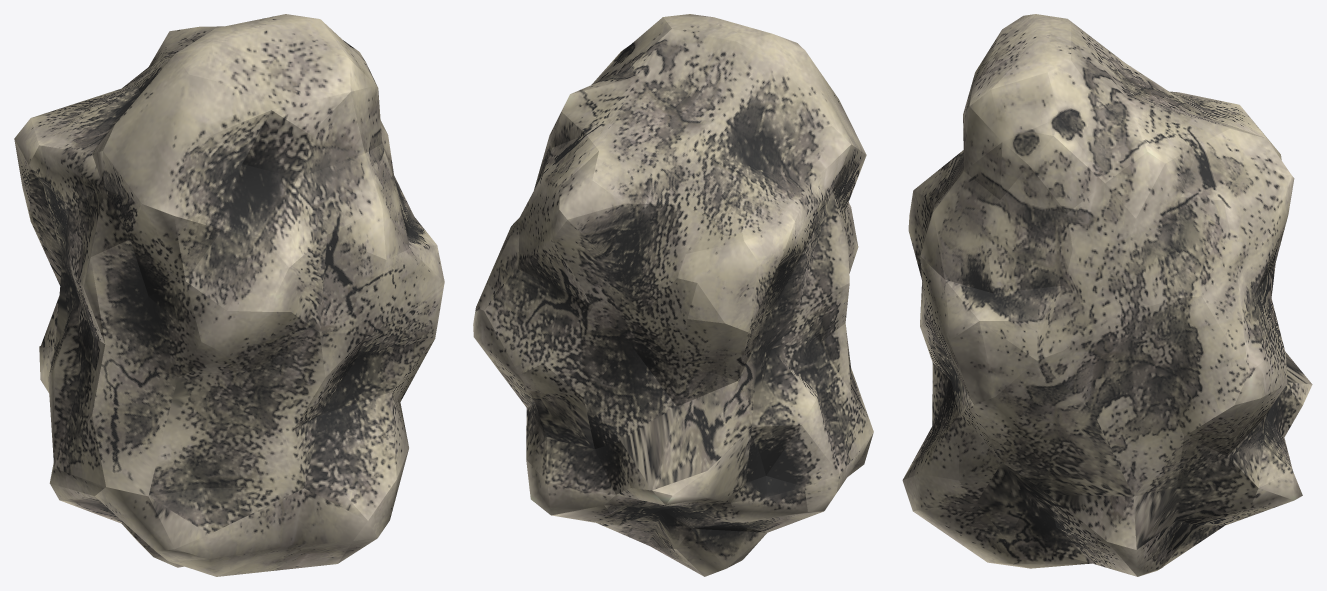
Rendered from rock6_LOD2.fbx.
3 views of the same model, side by side, from view 1: azimuth 30°, elevation 25°; view 2: azimuth 150°, elevation 25°; view 3: azimuth 270°, elevation 25° (orthographic). The views are drawn at different scales.
Visible parts, largest first — view 1: rock6; view 2: rock6; view 3: rock6.
Part boxes in pixels (left/top/right/bottom): rock6: left=14, top=14, right=444, bottom=576; rock6: left=473, top=14, right=873, bottom=576; rock6: left=902, top=14, right=1312, bottom=576.
Bounding box in the file's own units: 15.6 × 16.94 × 24.47.
